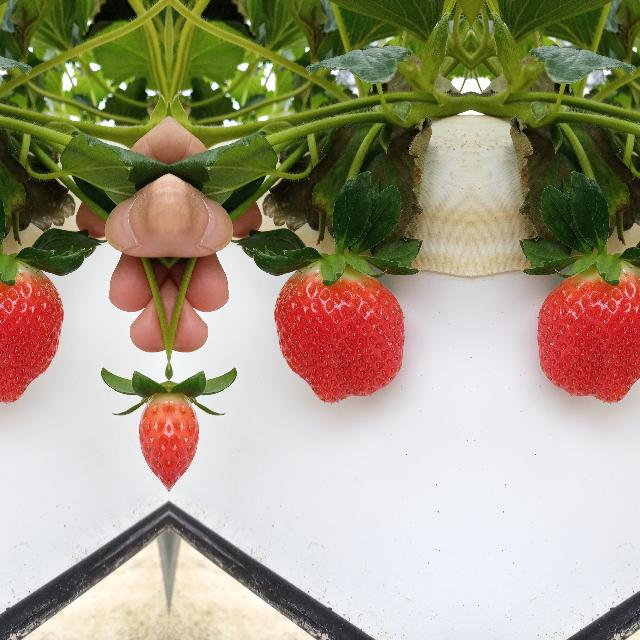Health_100: (273, 260, 405, 404), (536, 260, 640, 404), (0, 260, 63, 404)
